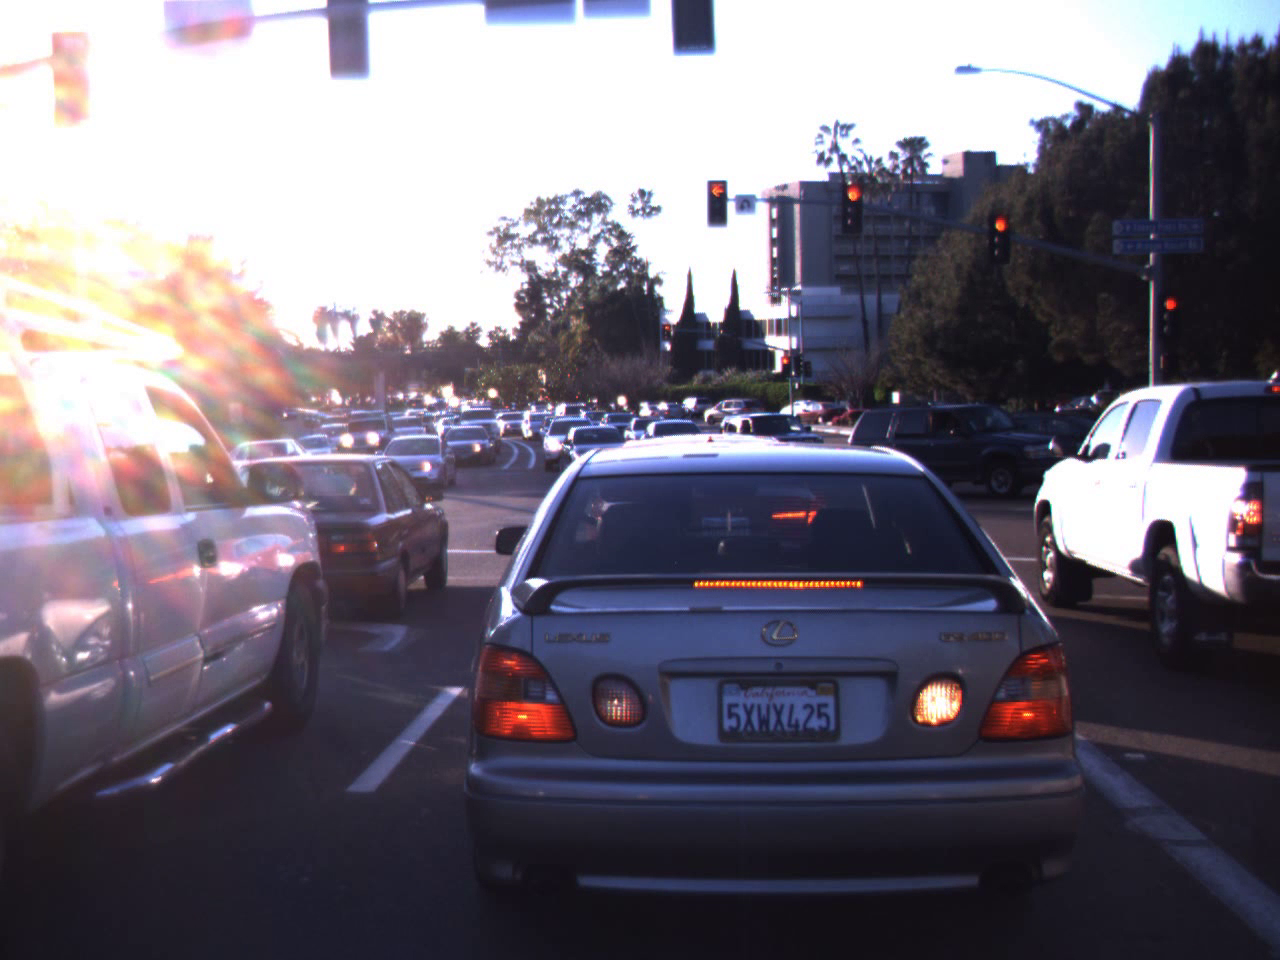Traffic_Light_stop: (706, 181, 729, 227), (989, 205, 1008, 256), (844, 183, 864, 227)
